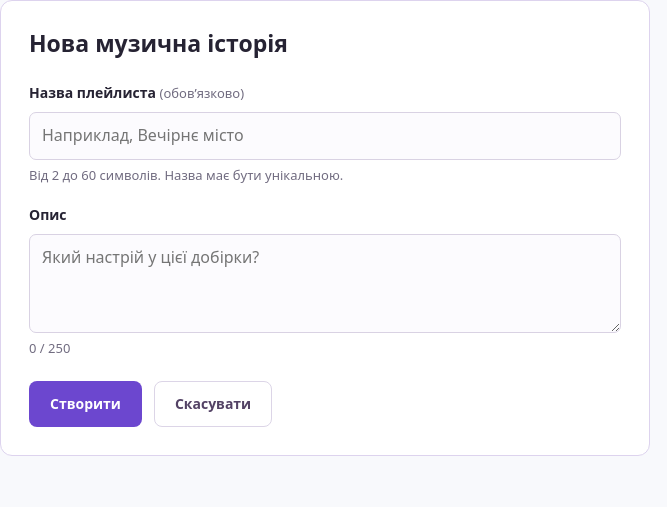
відхиляє порожню назву плейлиста
The width and height of the screenshot is (667, 507).
Click the button "Створити" at {"x": 85, "y": 404}, box [29, 380, 142, 427]
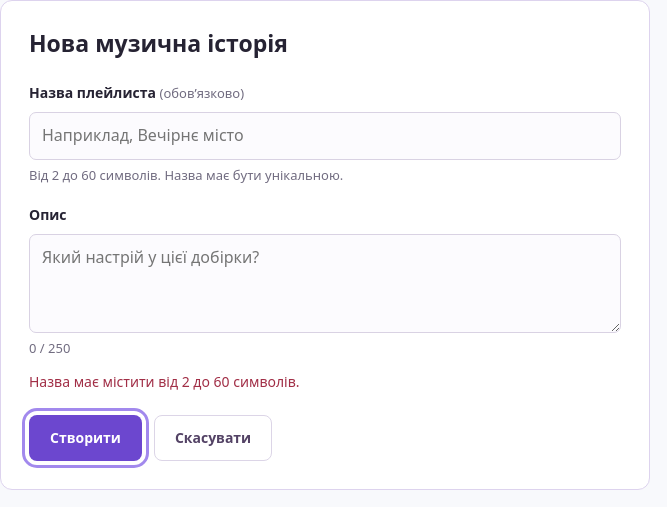
Expected: the message reads "Назва має містити від 2 до 60 символів.", [29, 372, 300, 390]
